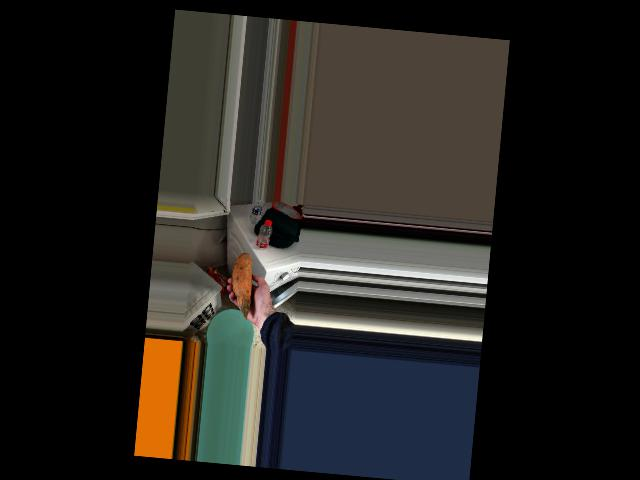sweet_potato: (228, 258, 254, 315)
